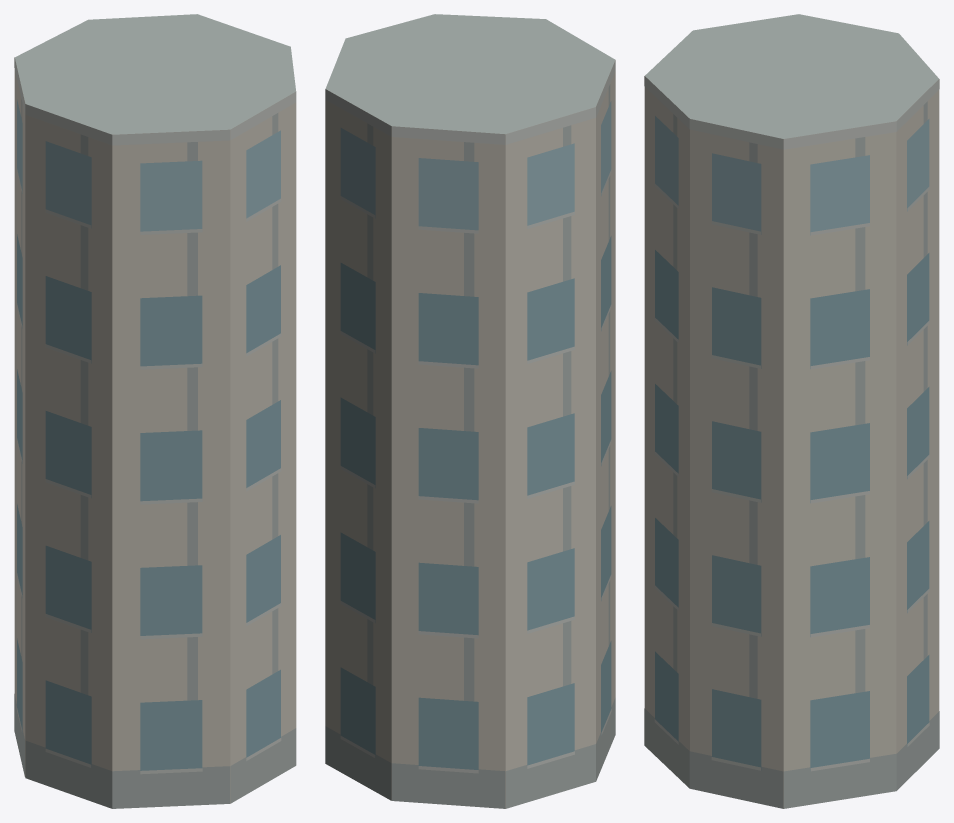
File: survey-upis-32647483.glb
3 renders of one model, left to right at view 1: azimuth 30°, elevation 25°; view 2: azimuth 150°, elevation 25°; view 3: azimuth 270°, elevation 25°, orthographic.
Parts seen in each view (by area): view 1: survey-upis-32647483.tmp; view 2: survey-upis-32647483.tmp; view 3: survey-upis-32647483.tmp.
Boxes of the visible parts, x1,y1,x2,y2 form: survey-upis-32647483.tmp: (14,14,296,808); survey-upis-32647483.tmp: (325,14,615,808); survey-upis-32647483.tmp: (644,14,939,808).
Size of the model in its own units: 6.11 by 15.25 by 6.09.
